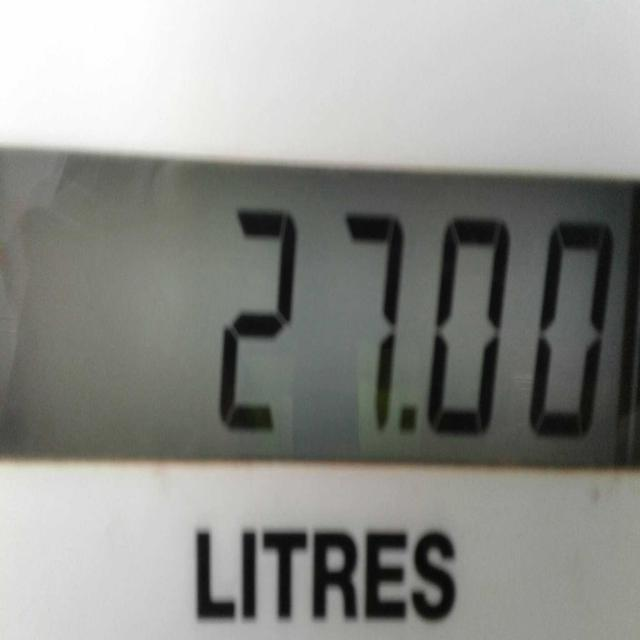.: (399, 394, 425, 443)
0: (425, 208, 514, 454), (526, 218, 621, 447)
2: (211, 208, 312, 435)
7: (328, 204, 407, 450)
